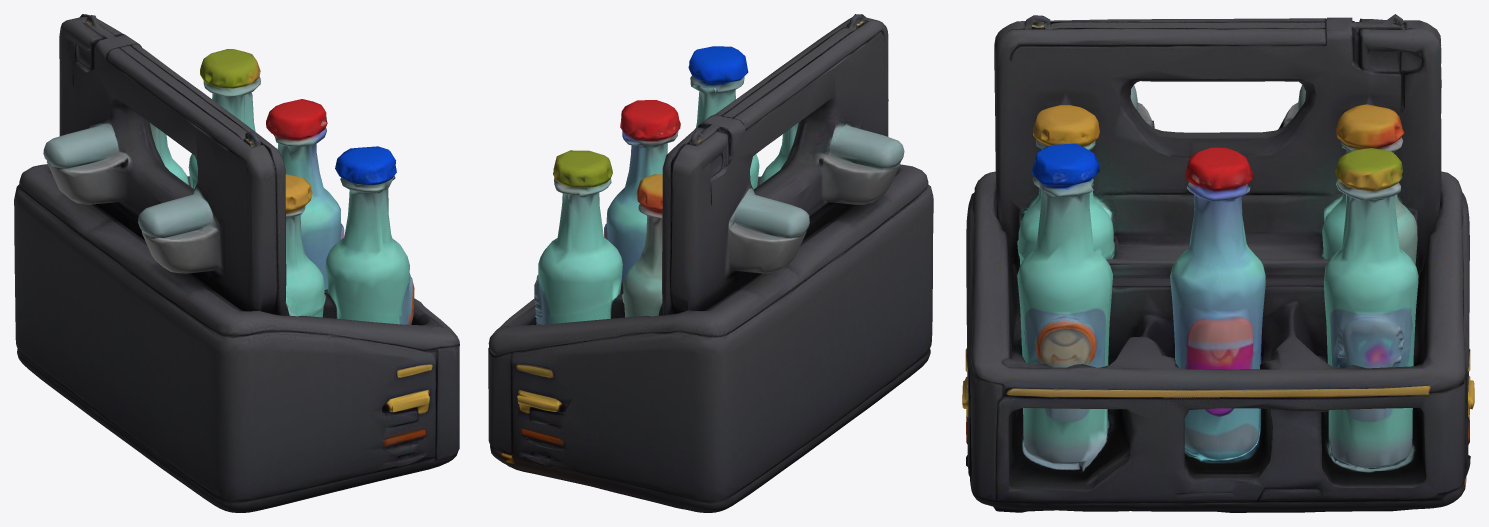
Rendered from six_pack.glb.
The picture shows the model from 3 angles, left to right: view 1: azimuth 30°, elevation 25°; view 2: azimuth 150°, elevation 25°; view 3: azimuth 270°, elevation 25°; orthographic projection. The views are drawn at different scales.
Visible parts, largest first — view 1: tripo_node_ff0bf65e-13a5-4bc8-b411-3c2ca4b9a895; view 2: tripo_node_ff0bf65e-13a5-4bc8-b411-3c2ca4b9a895; view 3: tripo_node_ff0bf65e-13a5-4bc8-b411-3c2ca4b9a895.
Part boxes in pixels (left/top/right/bottom): tripo_node_ff0bf65e-13a5-4bc8-b411-3c2ca4b9a895: left=14, top=14, right=459, bottom=512; tripo_node_ff0bf65e-13a5-4bc8-b411-3c2ca4b9a895: left=488, top=14, right=933, bottom=512; tripo_node_ff0bf65e-13a5-4bc8-b411-3c2ca4b9a895: left=962, top=14, right=1474, bottom=512.
Bounding box in the file's own units: 0.6675 × 0.8482 × 0.9803.
1 material, 1 textured.
